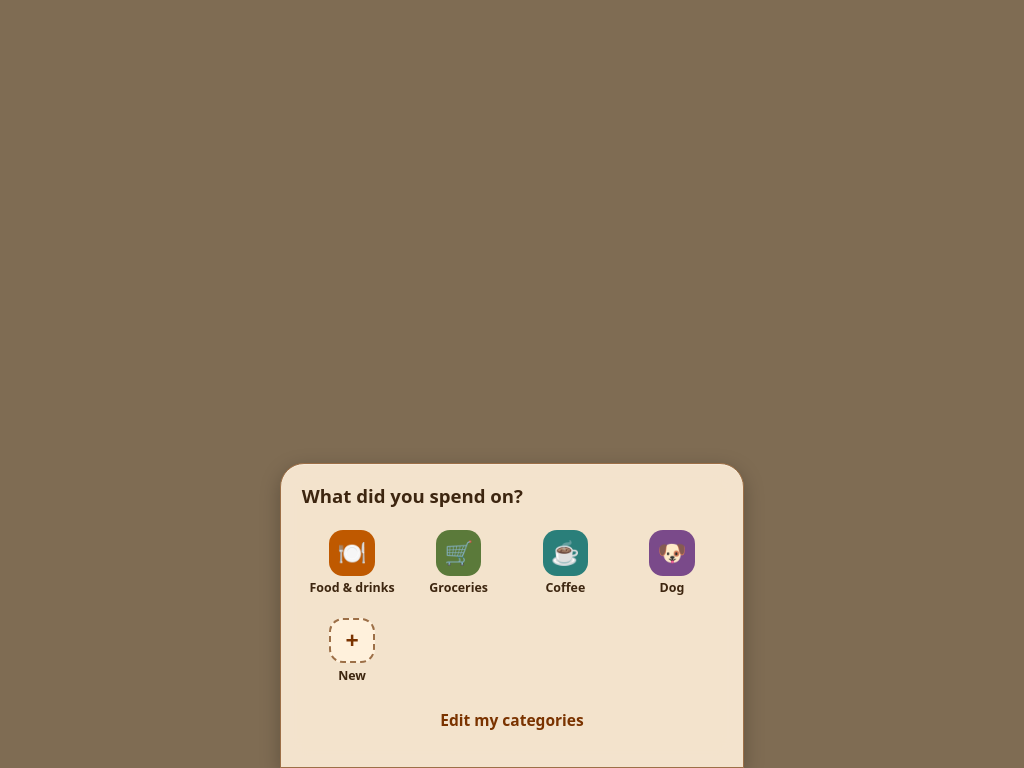
Test: PersonalSpendingSheet, adding › the first stage › keeps the category and Save in view while the amount, chips and note scroll on a short window
Click the button "☕ Coffee".
click(565, 563)  # box [515, 524, 616, 601]
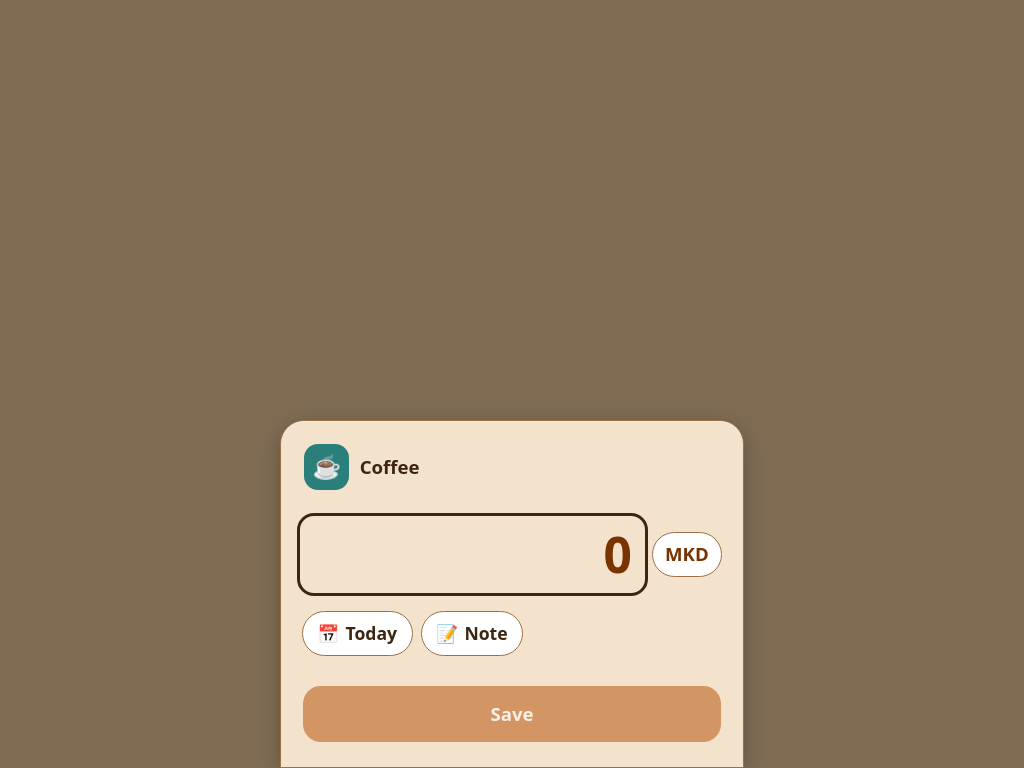
Expected: the dialog "Coffee" is shown, [360, 454, 420, 479]
Expected: the text "Coffee" is gone
